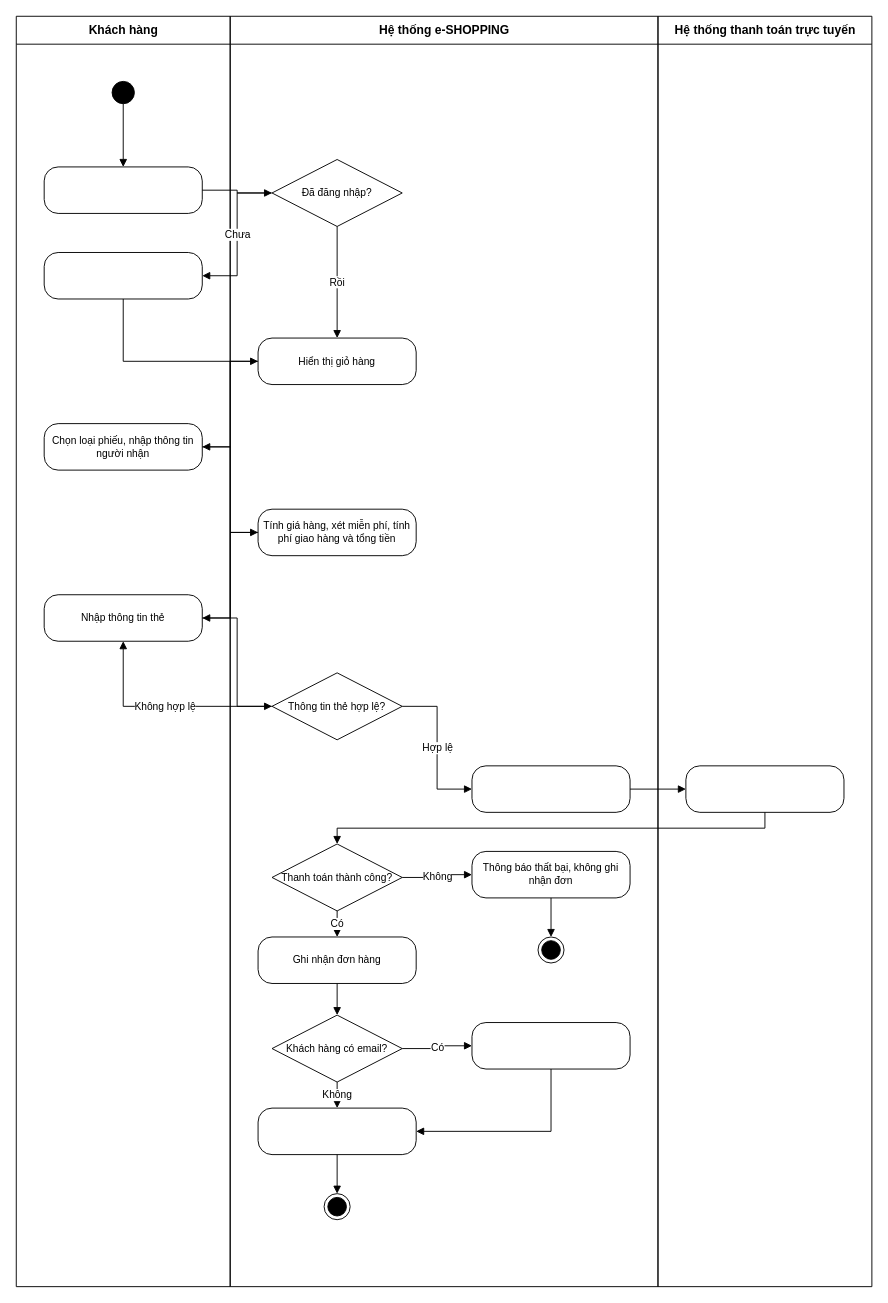
Some shapes in this 888 by 1303 pixel diagram are drawn without their labels. The shapes that lost their labels are listed below. From the top down, each one's centre as x and y in pixels, then its label:
At (122,189): "Chọn chức năng đặt hàng / tính tiền".
At (122,275): "Đăng nhập hoặc đăng ký".
At (550,788): "Gửi yêu cầu thanh toán".
At (764,788): "Kiểm tra thẻ và khả năng thanh toán".
At (550,1045): "Gửi email xác nhận".
At (336,1131): "Thông báo đặt hàng thành công".
